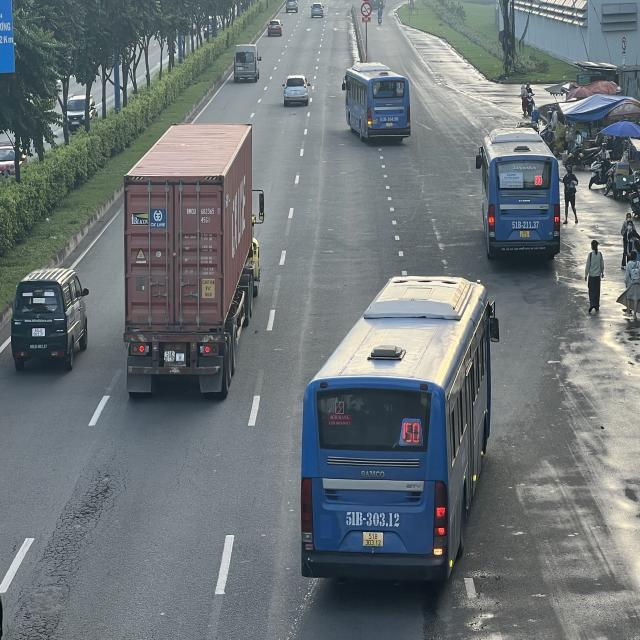car: (282, 74, 311, 106)
coach: (301, 275, 499, 583), (479, 127, 561, 263), (342, 61, 409, 142)
container: (121, 126, 264, 401)
van: (13, 264, 92, 372), (234, 44, 262, 84)
